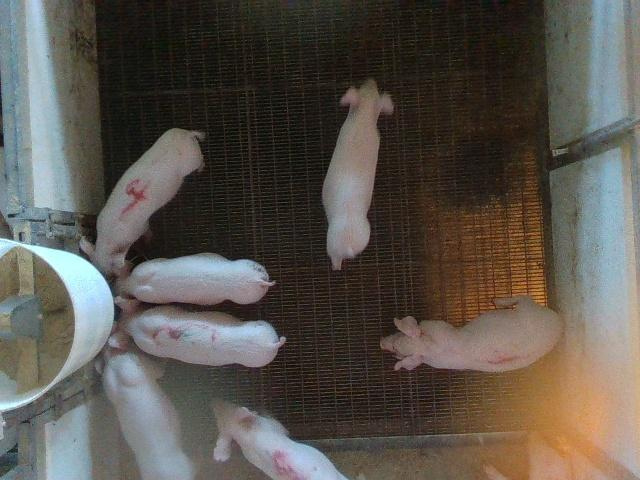pig-1: (380, 295, 561, 372)
pig-3: (108, 298, 285, 367)
pig-4: (82, 129, 204, 276)
pig-5: (212, 401, 346, 479)
